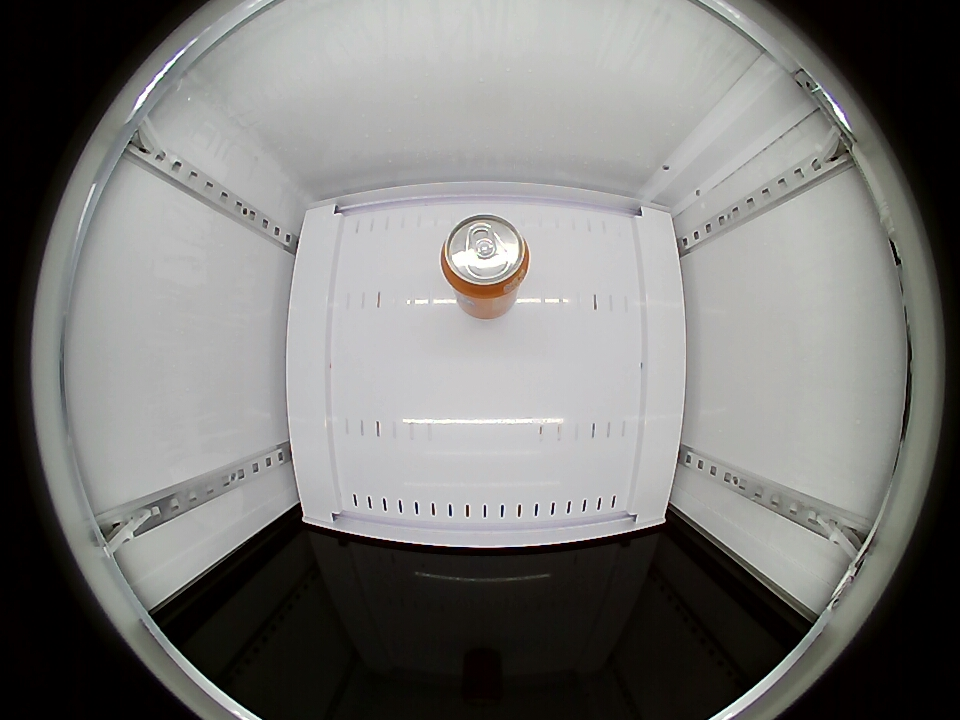fenda: (440, 215, 531, 305)
